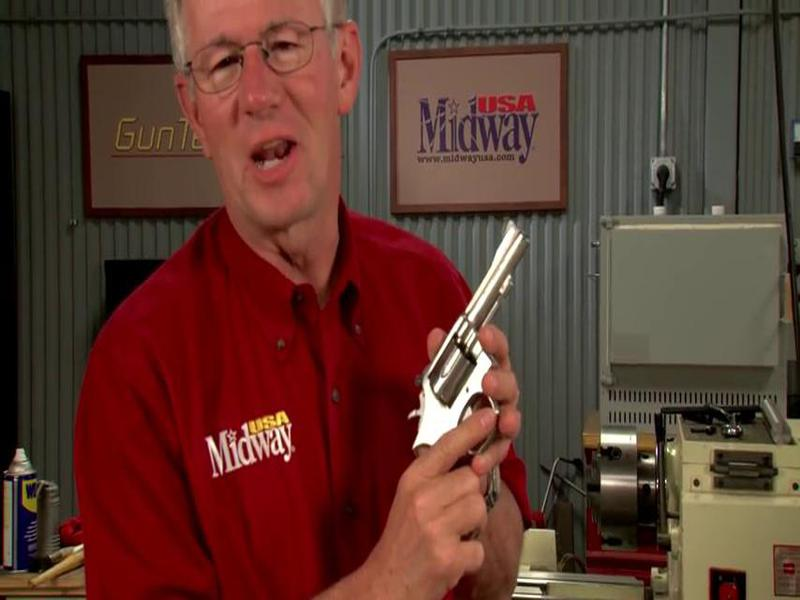Revolver: (415, 214, 537, 476)
